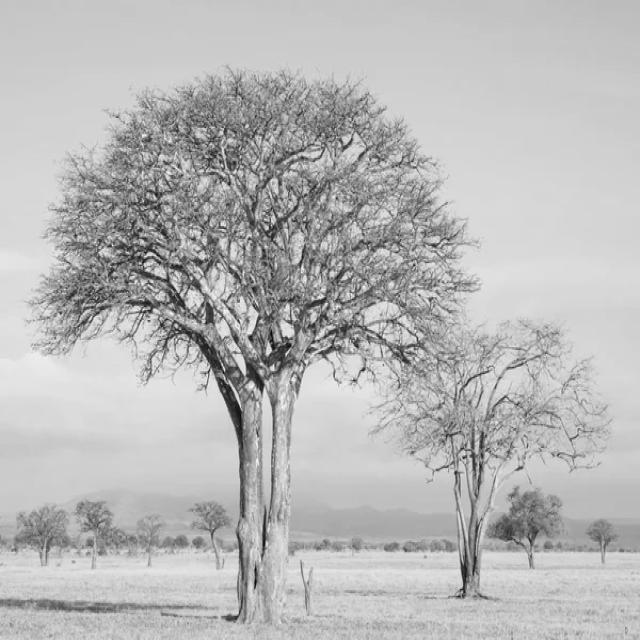Tree: (31, 71, 478, 624), (377, 320, 610, 598), (488, 488, 568, 570), (17, 505, 68, 567), (189, 502, 232, 571), (75, 500, 113, 570), (588, 519, 621, 564), (138, 515, 166, 568)
